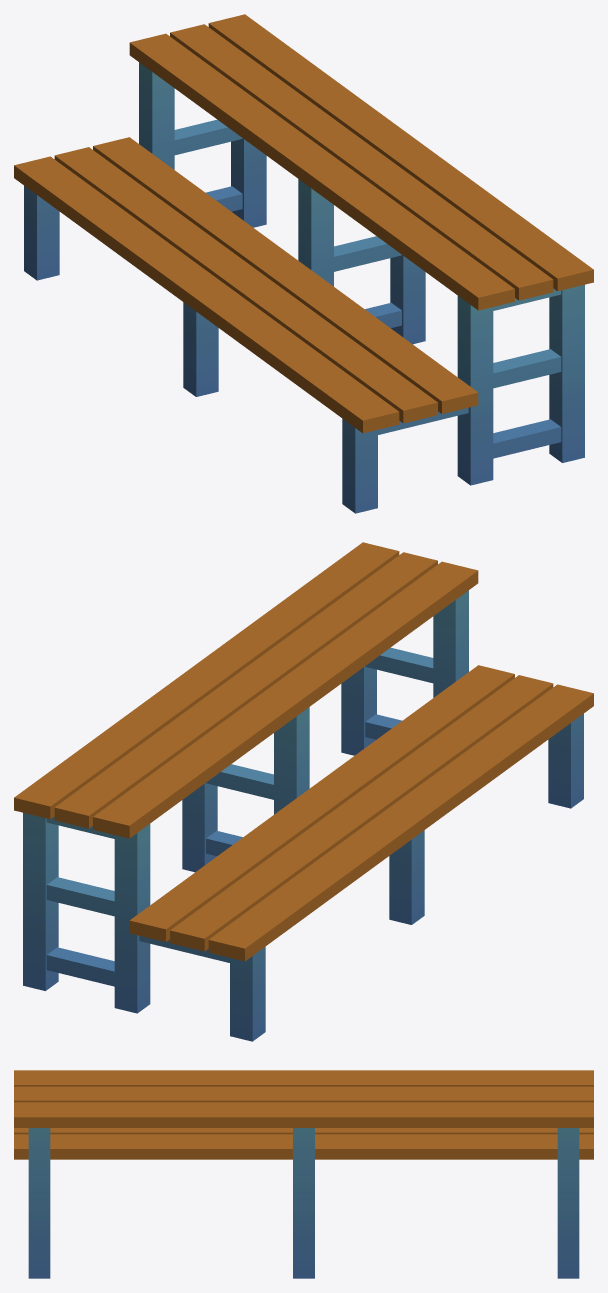
The model's file is Bench_1_B_1.fbx.
3 renders of one model, top to bottom at view 1: azimuth 30°, elevation 25°; view 2: azimuth 150°, elevation 25°; view 3: azimuth 270°, elevation 25°, orthographic. The views are drawn at different scales.
Visible parts, largest first — view 1: Bench_1_B_1; view 2: Bench_1_B_1; view 3: Bench_1_B_1.
Boxes of the visible parts, left/top/right/bottom form: Bench_1_B_1: left=14, top=14, right=593, bottom=513; Bench_1_B_1: left=14, top=542, right=593, bottom=1041; Bench_1_B_1: left=14, top=1070, right=593, bottom=1278.
Size of the model in its own units: 81.37 by 65.4 by 213.
